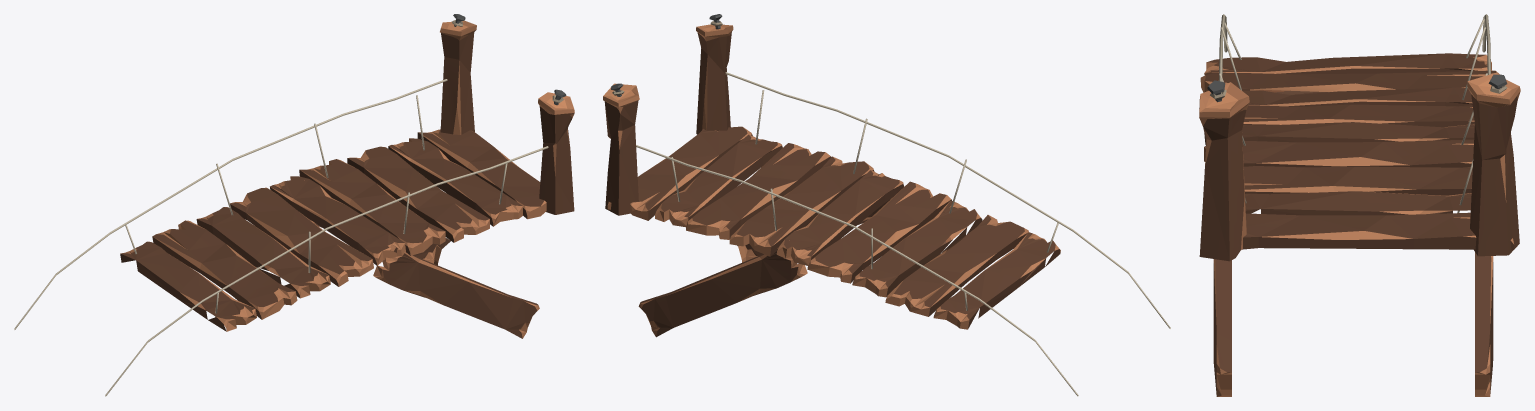
File: KırıkKopru2.fbx
3 views of the same model, side by side, from view 1: azimuth 30°, elevation 25°; view 2: azimuth 150°, elevation 25°; view 3: azimuth 270°, elevation 25° (orthographic). The views are drawn at different scales.
Parts seen in each view (by area): view 1: KırıkKopru2; view 2: KırıkKopru2; view 3: KırıkKopru2.
Part boxes in pixels (bbox=[...]): KırıkKopru2: bbox=[14, 14, 574, 396]; KırıkKopru2: bbox=[603, 14, 1170, 396]; KırıkKopru2: bbox=[1199, 14, 1520, 396].
Bounding box in the file's own units: 345 × 172 × 145.
